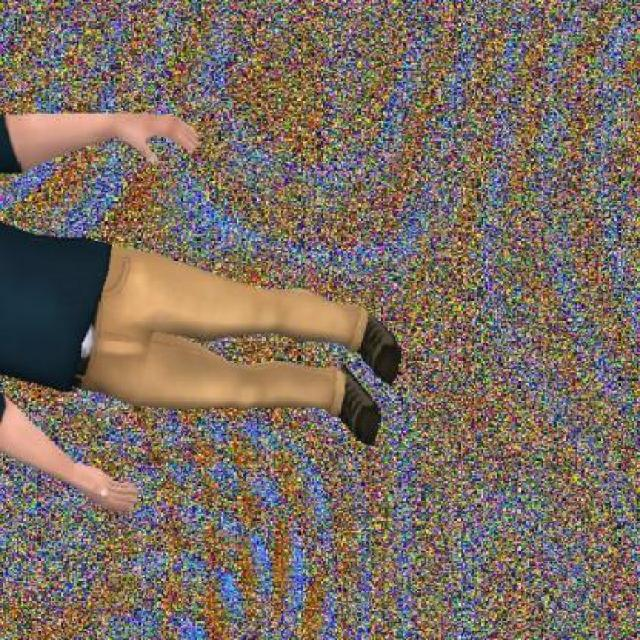Person: (0, 108, 408, 517)
